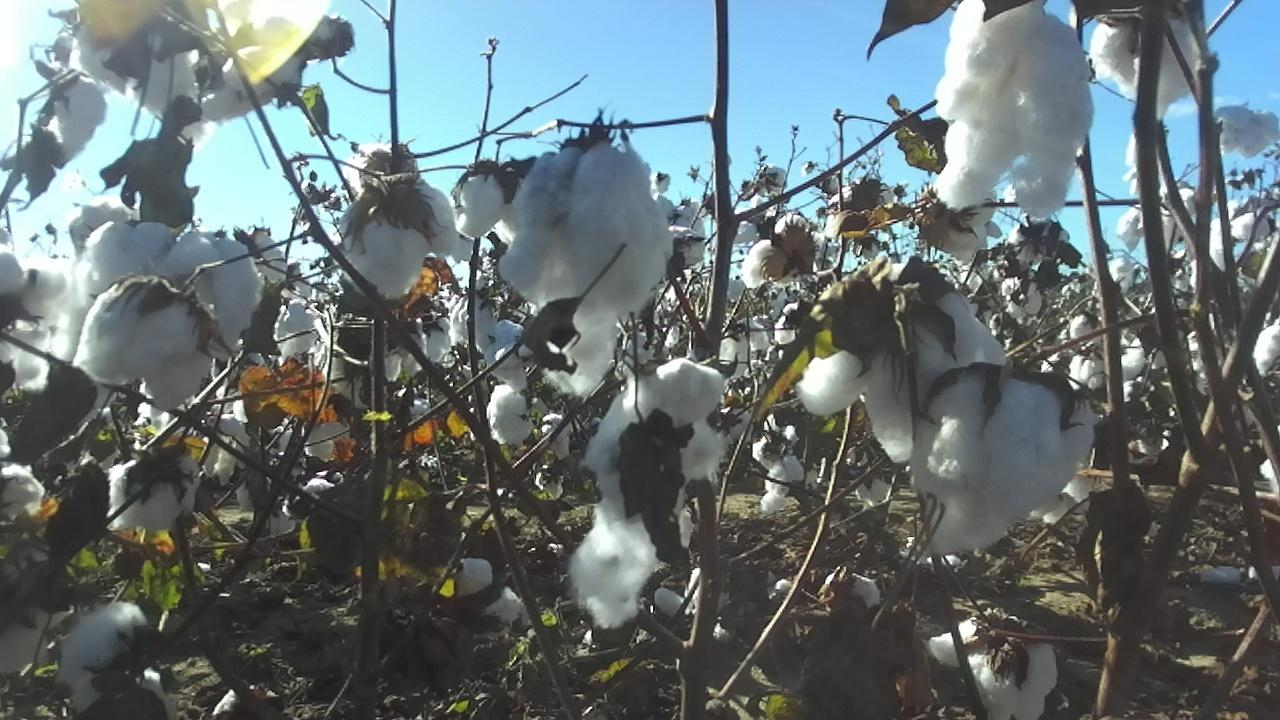cotton_ready: (499, 144, 672, 393), (572, 362, 729, 631), (797, 290, 999, 459), (938, 0, 1094, 217), (920, 375, 1100, 558), (72, 277, 215, 410), (75, 17, 209, 149), (343, 182, 464, 302), (928, 615, 1059, 720), (156, 234, 259, 351), (77, 224, 180, 337), (1093, 18, 1207, 117), (57, 597, 145, 714), (104, 447, 200, 535), (203, 44, 302, 127), (451, 294, 526, 385), (738, 210, 824, 289), (770, 564, 884, 619), (47, 75, 112, 169), (0, 584, 57, 676), (934, 194, 1005, 264), (824, 177, 897, 245), (455, 169, 522, 242), (0, 250, 70, 319), (455, 564, 528, 626), (69, 194, 145, 249), (656, 194, 707, 269), (0, 331, 52, 399), (762, 454, 819, 514), (1212, 104, 1280, 154), (345, 142, 407, 195), (488, 385, 535, 446), (0, 464, 45, 527), (252, 233, 292, 285)
